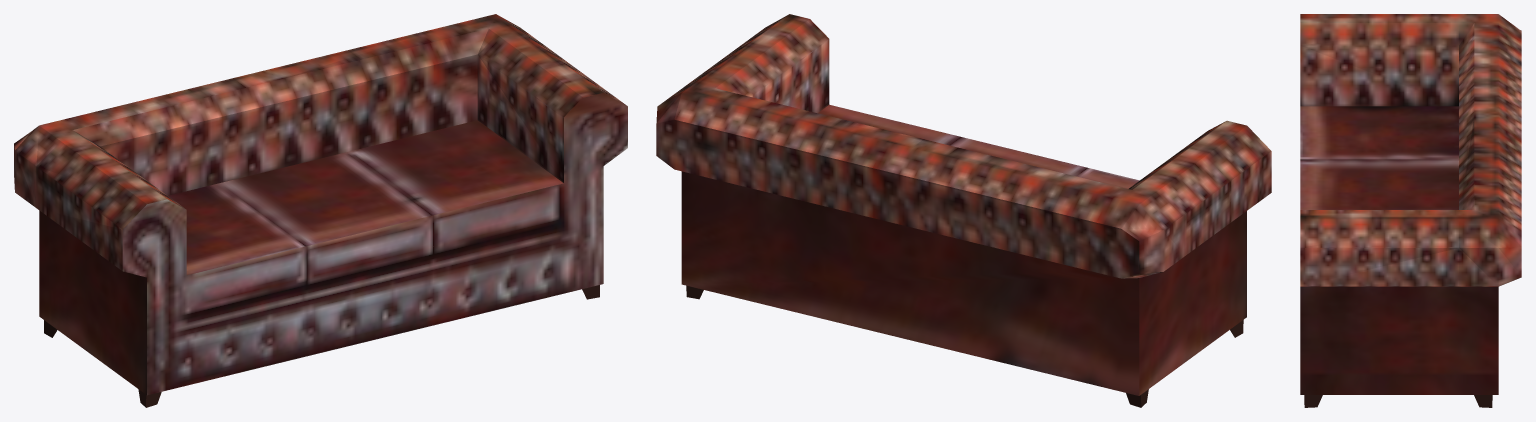
The model's file is sofa_d.glb.
3 renders of one model, left to right at view 1: azimuth 30°, elevation 25°; view 2: azimuth 150°, elevation 25°; view 3: azimuth 270°, elevation 25°, orthographic. The views are drawn at different scales.
Parts seen in each view (by area): view 1: sofa_d; view 2: sofa_d; view 3: sofa_d.
Part boxes in pixels (x1,y1,x2,y2): sofa_d: (14, 14, 627, 407); sofa_d: (656, 14, 1271, 407); sofa_d: (1300, 14, 1521, 407).
Bounding box in the file's own units: 2.79 × 1.09 × 1.15.
Materials: 1 (1 with a texture image).
